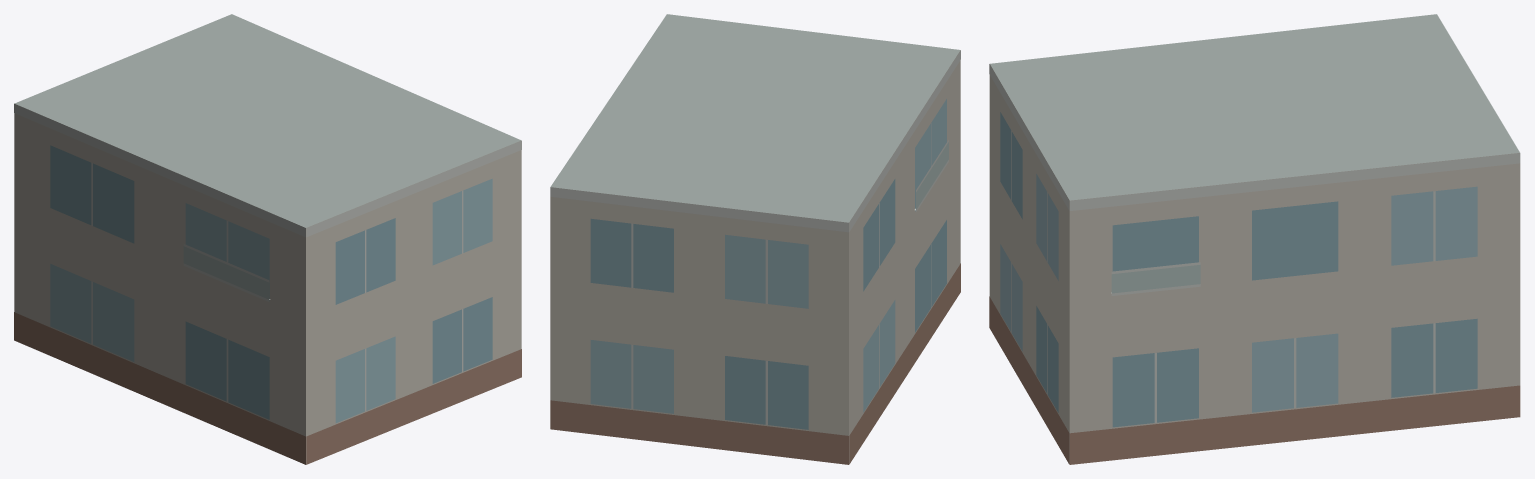
File: survey-upis-32720931.glb
3 renders of one model, left to right at view 1: azimuth 30°, elevation 25°; view 2: azimuth 150°, elevation 25°; view 3: azimuth 270°, elevation 25°, orthographic. The views are drawn at different scales.
Visible parts, largest first — view 1: survey-upis-32720931.tmp; view 2: survey-upis-32720931.tmp; view 3: survey-upis-32720931.tmp.
Boxes of the visible parts, bbox=[...] form: survey-upis-32720931.tmp: bbox=[14, 14, 521, 464]; survey-upis-32720931.tmp: bbox=[550, 14, 960, 464]; survey-upis-32720931.tmp: bbox=[989, 14, 1520, 464].
Size of the model in its own units: 9.25 by 6.1 by 11.11.
